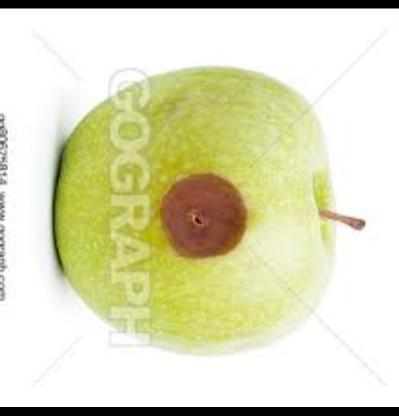defect: (146, 165, 256, 272)
